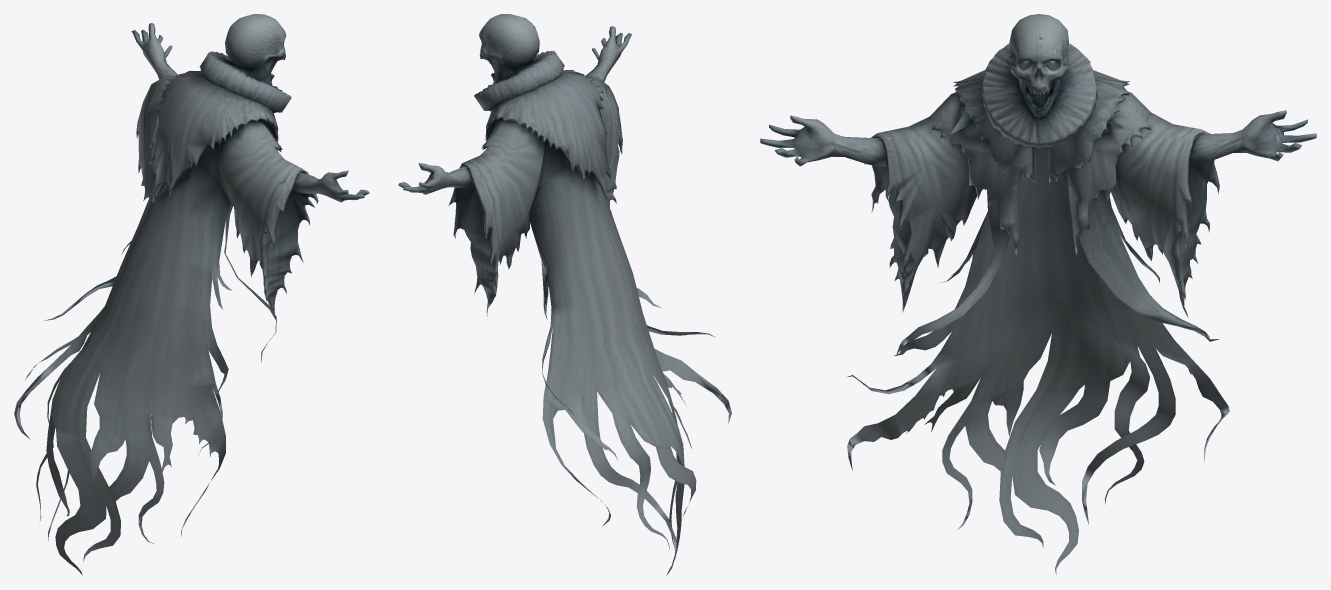
Rendered from choir_wraith.glb.
3 views of the same model, side by side, from view 1: azimuth 30°, elevation 25°; view 2: azimuth 150°, elevation 25°; view 3: azimuth 270°, elevation 25° (orthographic). The views are drawn at different scales.
Visible parts, largest first — view 1: tripo_node_84ad79f6-73b8-4461-9350-55bbd4a90145; view 2: tripo_node_84ad79f6-73b8-4461-9350-55bbd4a90145; view 3: tripo_node_84ad79f6-73b8-4461-9350-55bbd4a90145.
Part boxes in pixels (x1,y1,x2,y2): tripo_node_84ad79f6-73b8-4461-9350-55bbd4a90145: (14,14,369,575); tripo_node_84ad79f6-73b8-4461-9350-55bbd4a90145: (398,14,731,575); tripo_node_84ad79f6-73b8-4461-9350-55bbd4a90145: (760,14,1316,574).
Size of the model in its own units: 0.4434 by 0.998 by 0.7636.
1 material, 1 textured.
